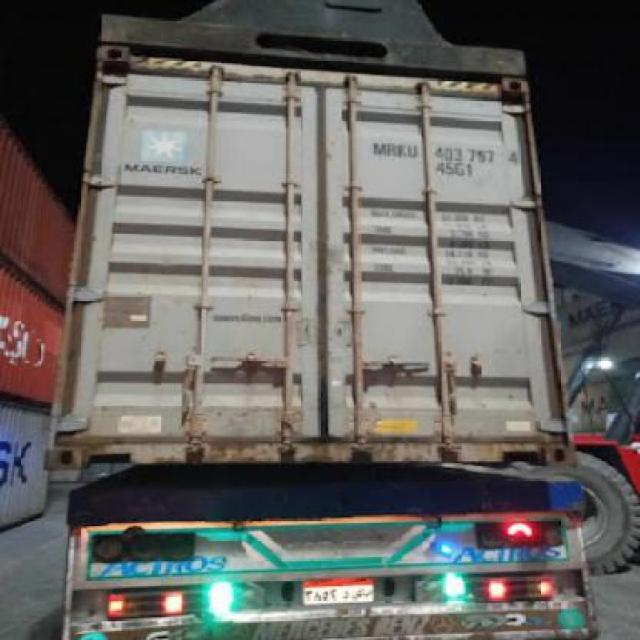ISO: (432, 160, 477, 180)
container_number: (376, 140, 516, 164)
